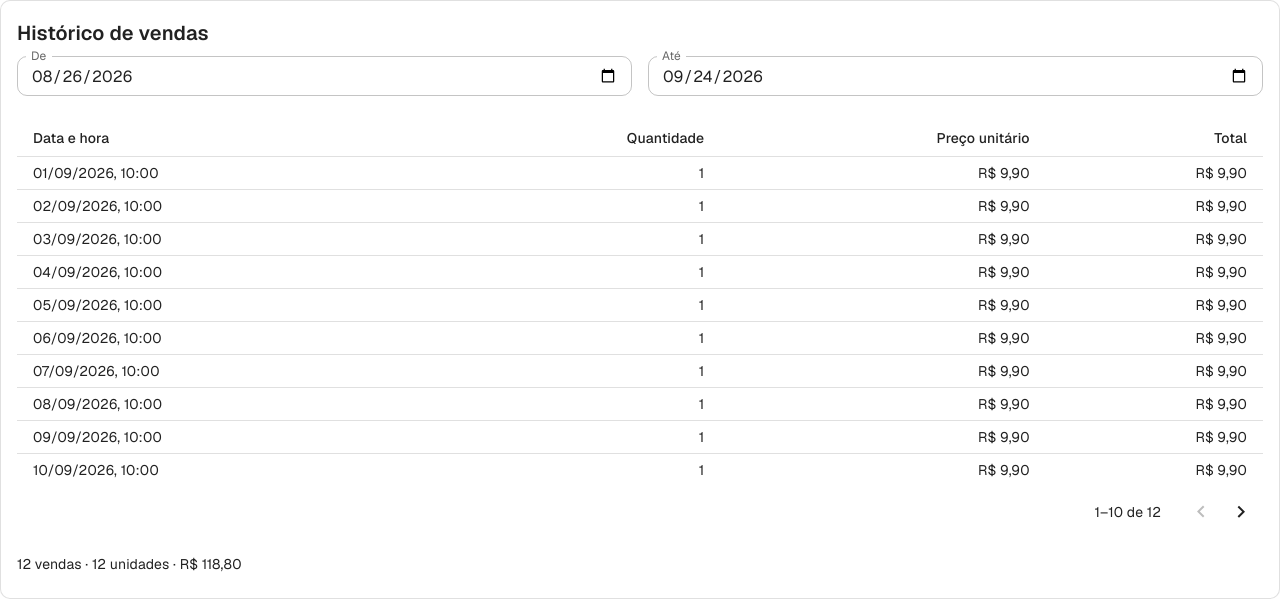
SaleHistory › shows 10 sales per page, with the totals of the whole period
Check: the text "01/09/2026, 10:00" is shown, box [17,156,436,190]
Check: the text "11/09/2026, 10:00" is not shown
What coordinates should you click on to do the following:
click the button named "próxima página"
I would click on:
 (1241, 512)
Its box is [1221,492,1261,532].
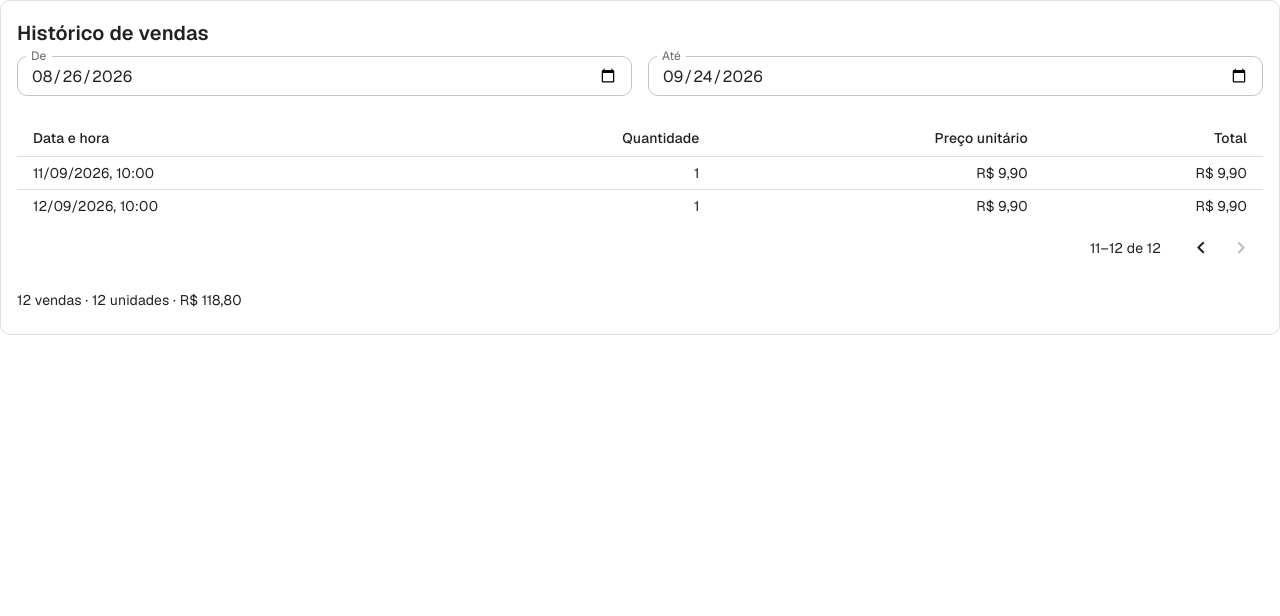
Check: the text "11/09/2026, 10:00" is shown, box [17,156,429,190]
Check: the number of rows is 3, box [17,120,1263,156]; [17,156,1263,190]; [17,190,1263,222]
Check: the text "11–12 de 12" is shown, box [1090,238,1161,258]
